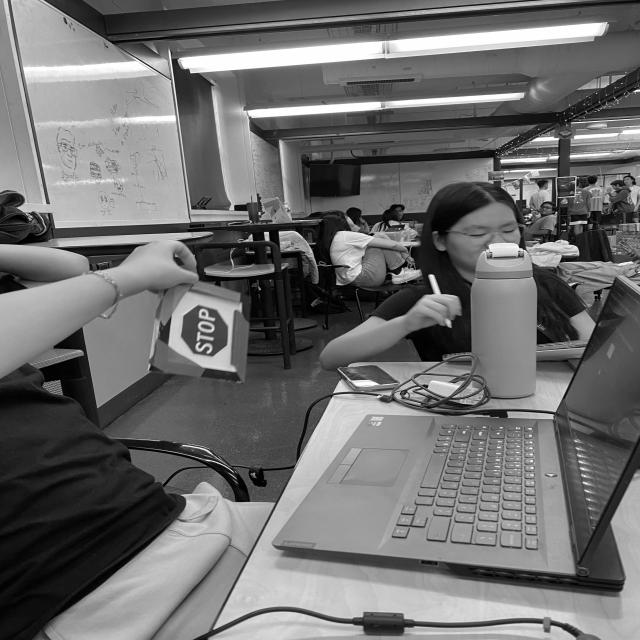stop: (174, 300, 235, 360)
